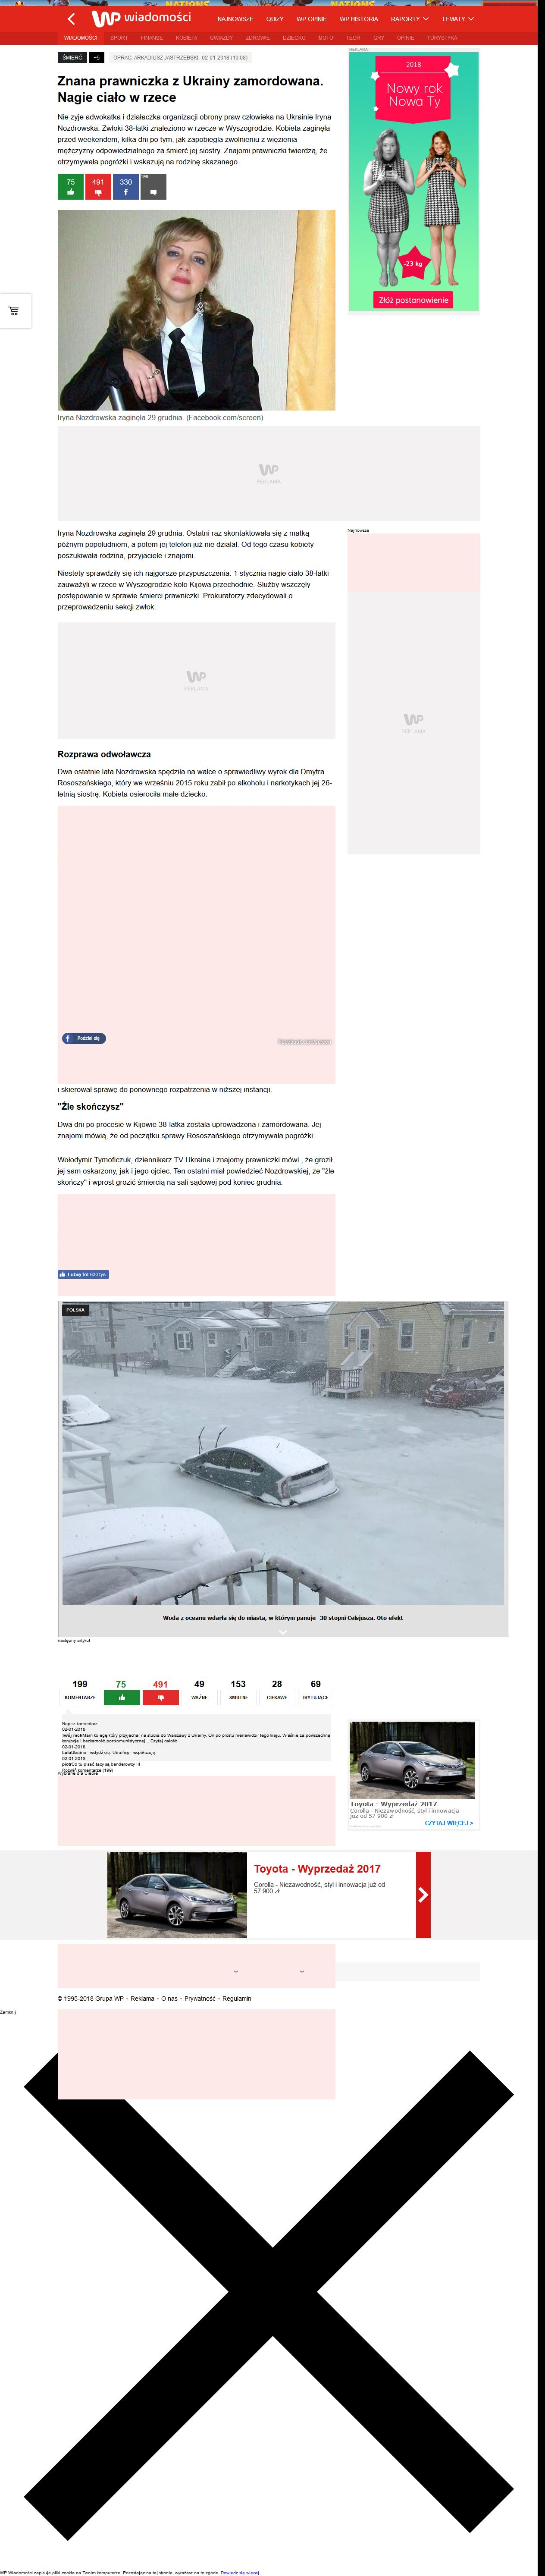title: (57, 76, 325, 103)
